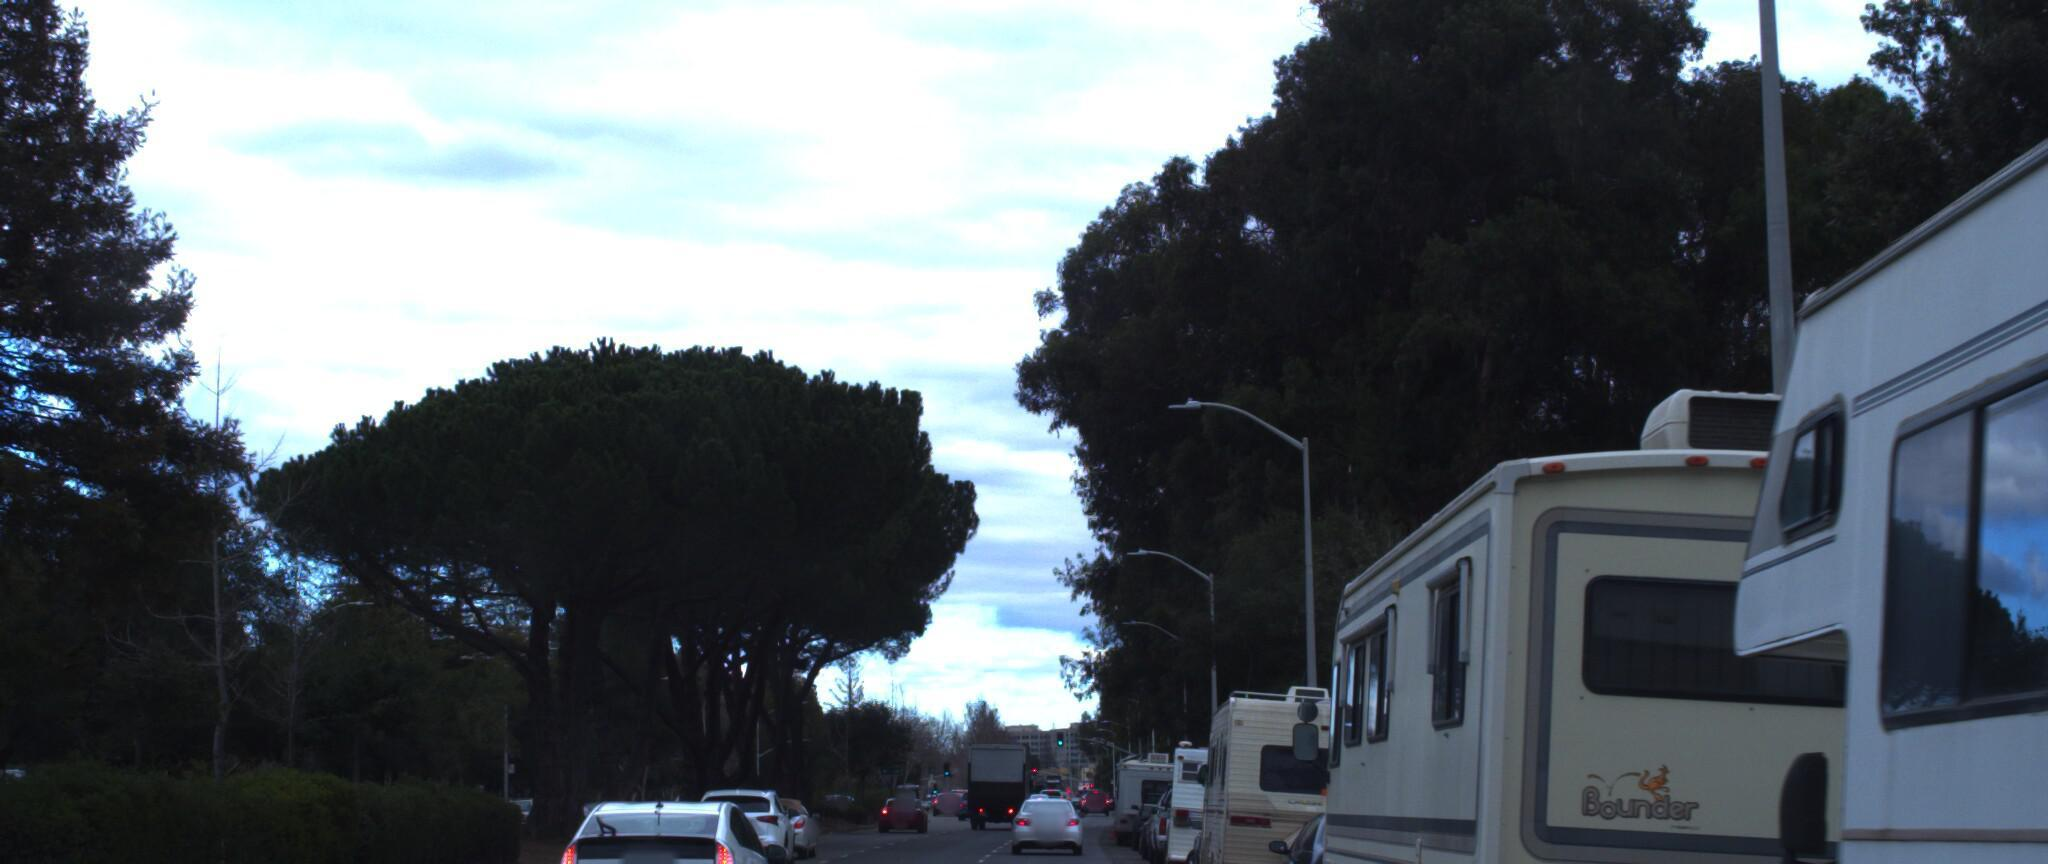car: (545, 775, 795, 864), (1259, 790, 1469, 864), (686, 773, 798, 861), (726, 777, 819, 844), (1000, 777, 1078, 839)
other_vehicle: (1302, 355, 2048, 864), (1616, 0, 2048, 864), (1189, 647, 1433, 864), (1153, 722, 1280, 864)
